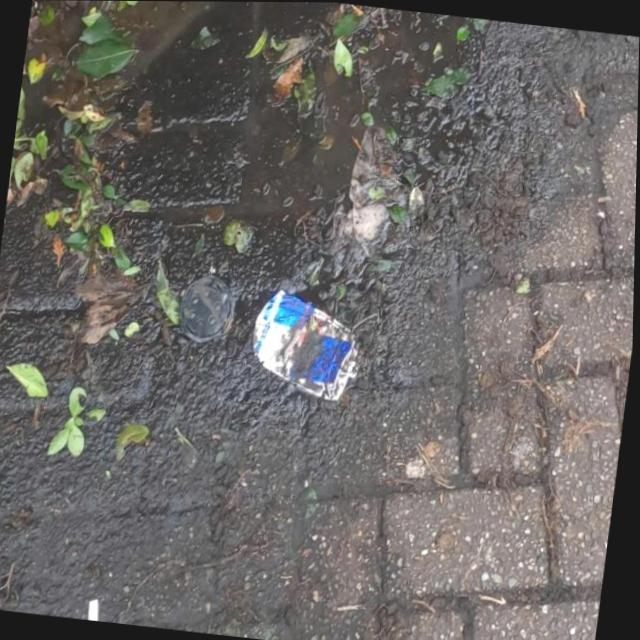Can-Metal: (245, 283, 370, 404)
